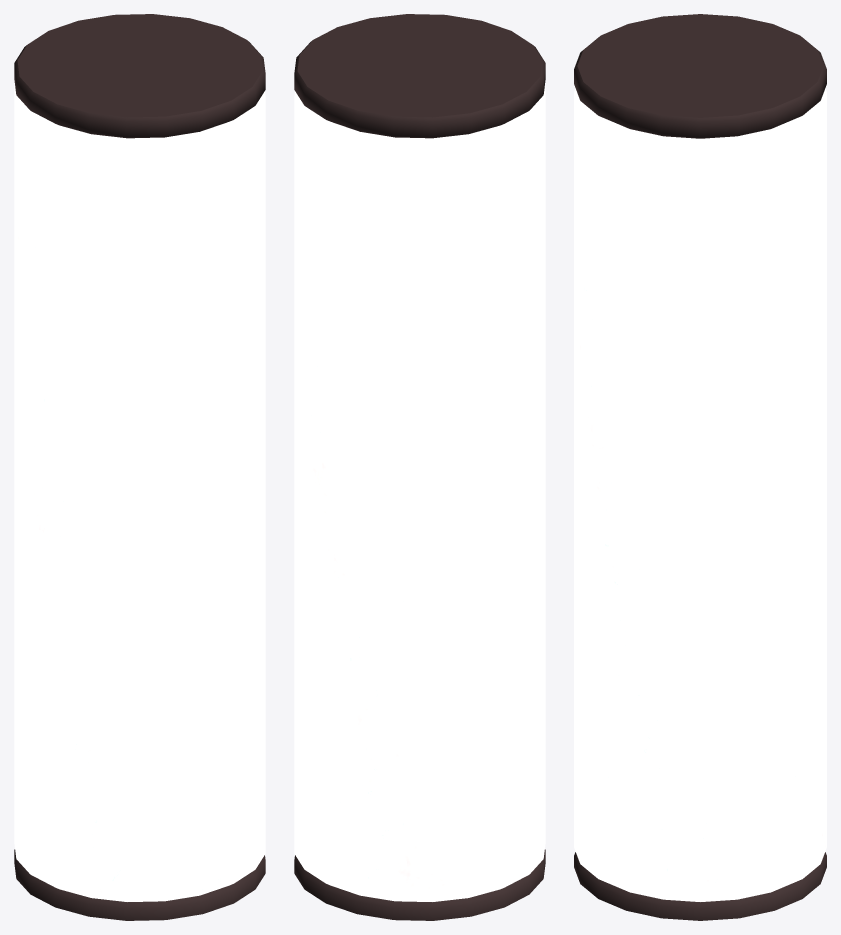
Rendered from 008_pillar_var3.glb.
3 views of the same model, side by side, from view 1: azimuth 30°, elevation 25°; view 2: azimuth 150°, elevation 25°; view 3: azimuth 270°, elevation 25° (orthographic).
Visible parts, largest first — view 1: pillar; view 2: pillar; view 3: pillar.
Part boxes in pixels (<box>): pillar: <box>14,14,265,920</box>; pillar: <box>294,14,545,920</box>; pillar: <box>574,14,826,920</box>.
Size of the model in its own units: 0.75 by 2.62 by 0.75.
Materials: 2 (1 with a texture image).
